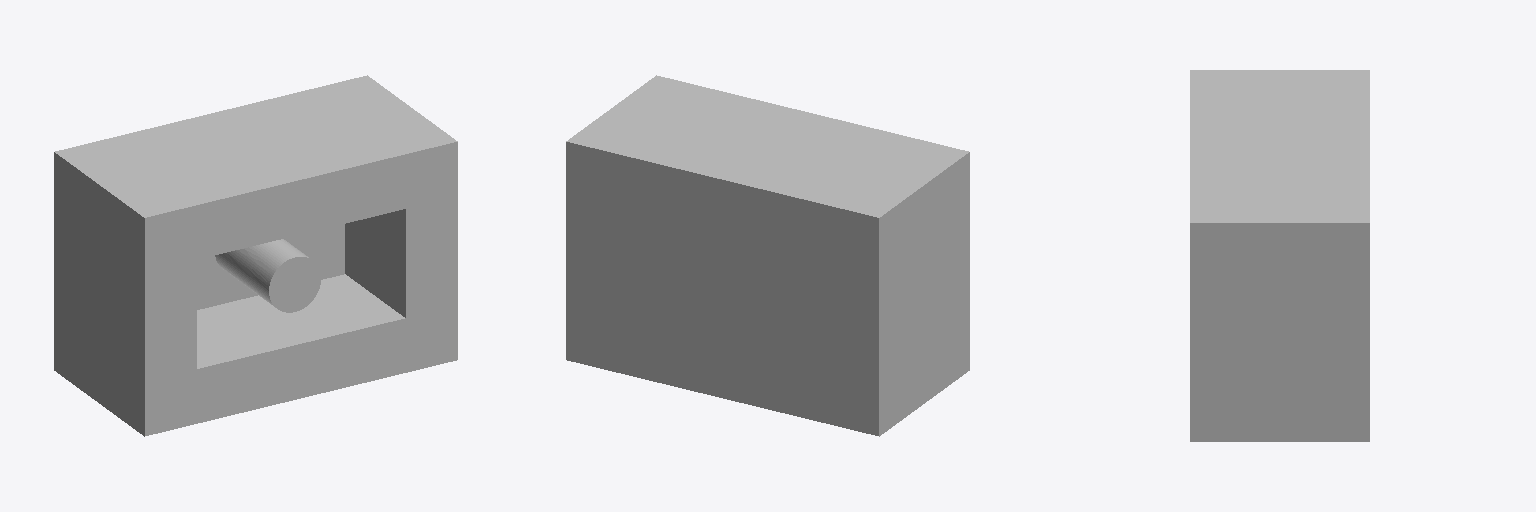
File: tank19.obj
3 views of the same model, side by side, from view 1: azimuth 30°, elevation 25°; view 2: azimuth 150°, elevation 25°; view 3: azimuth 270°, elevation 25° (orthographic).
Bounding box in the file's own units: 3 × 2 × 1.5.